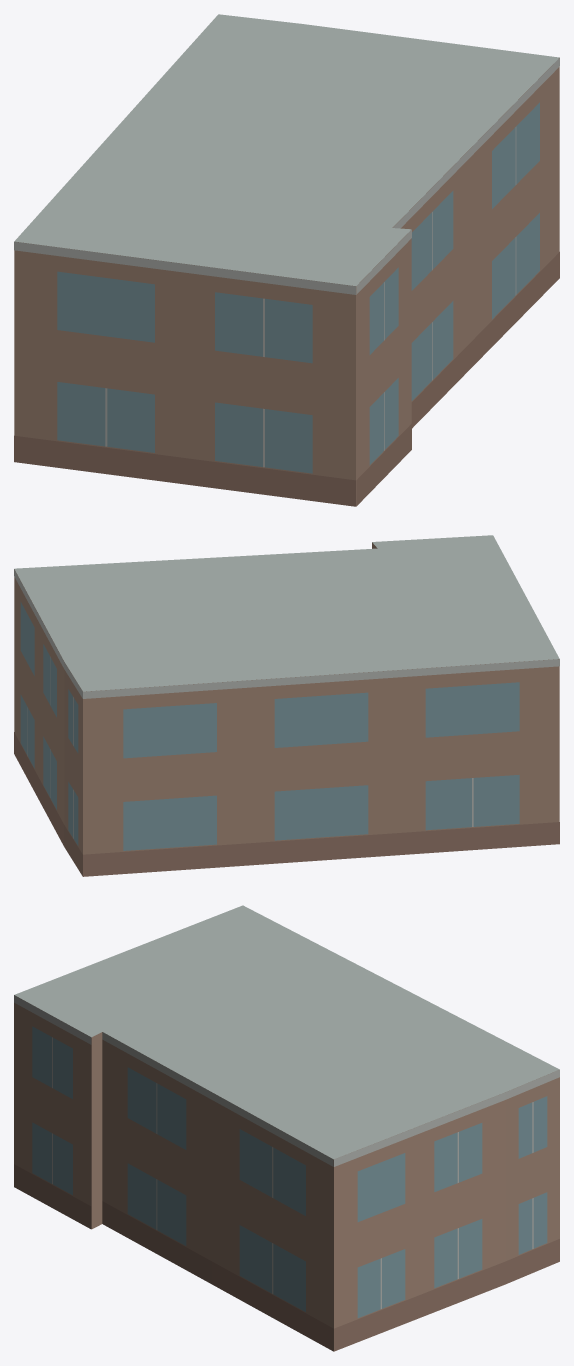
The model's file is survey-upis-32786849.glb.
The picture shows the model from 3 angles, top to bottom: view 1: azimuth 30°, elevation 25°; view 2: azimuth 150°, elevation 25°; view 3: azimuth 270°, elevation 25°; orthographic projection. The views are drawn at different scales.
Visible parts, largest first — view 1: survey-upis-32786849.tmp; view 2: survey-upis-32786849.tmp; view 3: survey-upis-32786849.tmp.
Part boxes in pixels (x1=…): survey-upis-32786849.tmp: x1=14, y1=14, x2=559, y2=506; survey-upis-32786849.tmp: x1=14, y1=535, x2=559, y2=876; survey-upis-32786849.tmp: x1=14, y1=905, x2=559, y2=1351.
Bounding box in the file's own units: 17.31 × 6.1 × 15.71.
